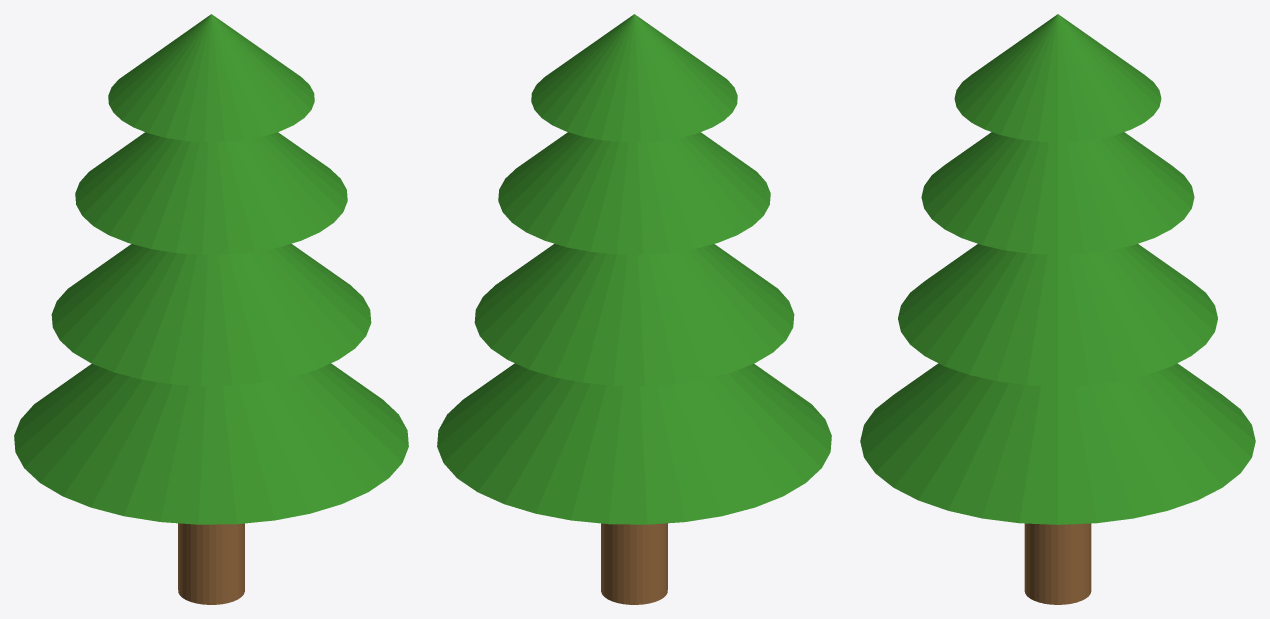
File: Tree.glb
3 views of the same model, side by side, from view 1: azimuth 30°, elevation 25°; view 2: azimuth 150°, elevation 25°; view 3: azimuth 270°, elevation 25° (orthographic).
Parts seen in each view (by area): view 1: Cone, Cone.001, Cone.002, Cone.003, Cylinder; view 2: Cone, Cone.001, Cone.002, Cone.003, Cylinder; view 3: Cone, Cone.001, Cone.002, Cone.003, Cylinder.
Part boxes in pixels (x1,y1,x2,y2): Cone: (14,363,408,524); Cone.001: (51,243,371,386); Cone.002: (75,132,347,254); Cone.003: (108,14,314,142); Cylinder: (178,523,244,604); Cone: (437,363,831,524); Cone.001: (474,243,794,386); Cone.002: (498,132,770,254); Cone.003: (531,14,737,142); Cylinder: (601,523,667,604); Cone: (860,363,1255,524); Cone.001: (898,244,1217,386); Cone.002: (921,132,1194,254); Cone.003: (954,14,1161,142); Cylinder: (1024,523,1091,604).
Bounding box in the file's own units: 0.4529 × 0.7286 × 0.4529.
